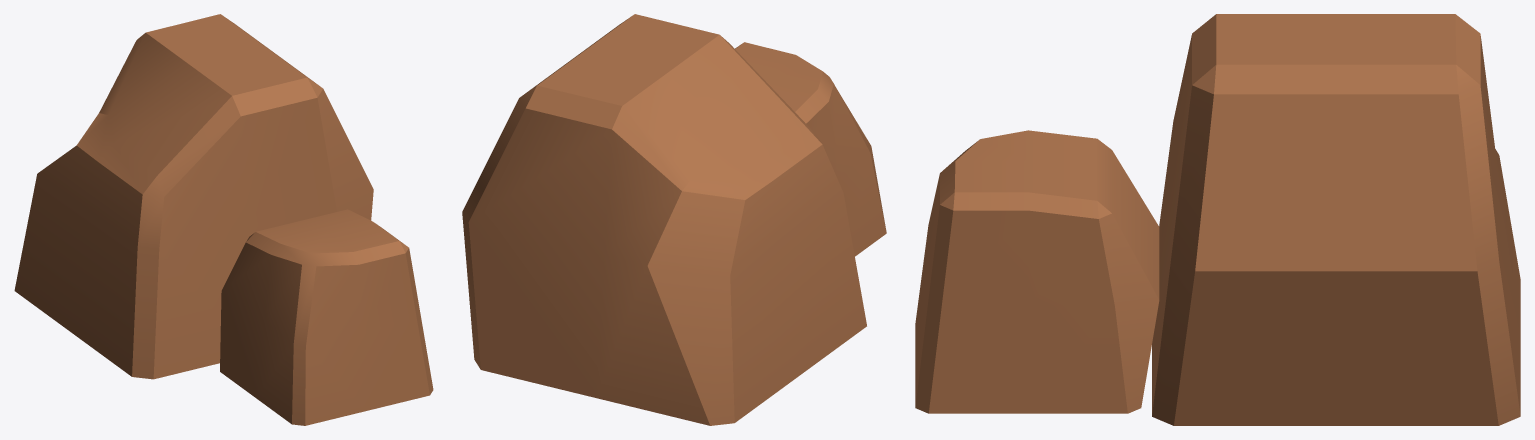
3 views of the same model, side by side, from view 1: azimuth 30°, elevation 25°; view 2: azimuth 150°, elevation 25°; view 3: azimuth 270°, elevation 25° (orthographic). The views are drawn at different scales.
Visible parts, largest first — view 1: Default; view 2: Default; view 3: Default.
Part boxes in pixels (left/top/right/bottom): Default: left=14, top=14, right=433, bottom=425; Default: left=462, top=14, right=886, bottom=425; Default: left=915, top=14, right=1520, bottom=425.
Size of the model in its own units: 27.54 by 25.5 by 41.87.
